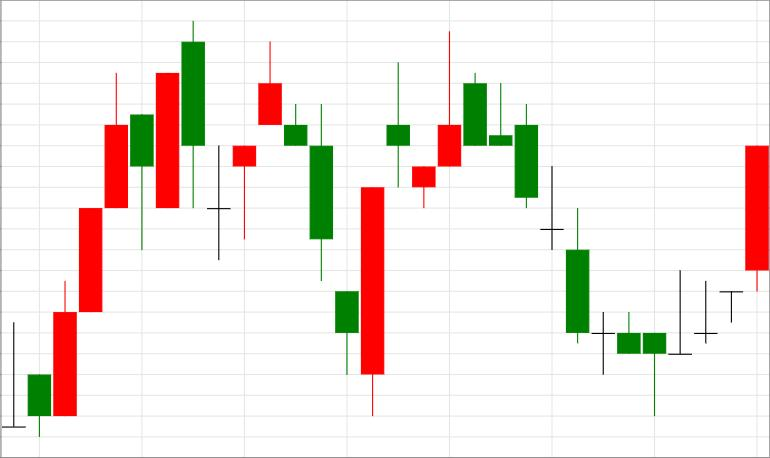bullish_engulfing_rise: (258, 41, 384, 416)
hammer_rise: (463, 73, 666, 417)
